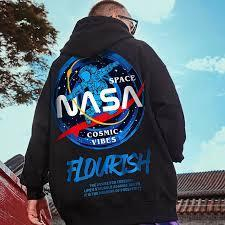sweater: (25, 12, 198, 225)
